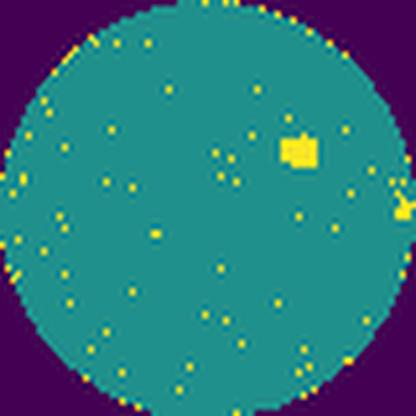Loc: (280, 130, 320, 171)
